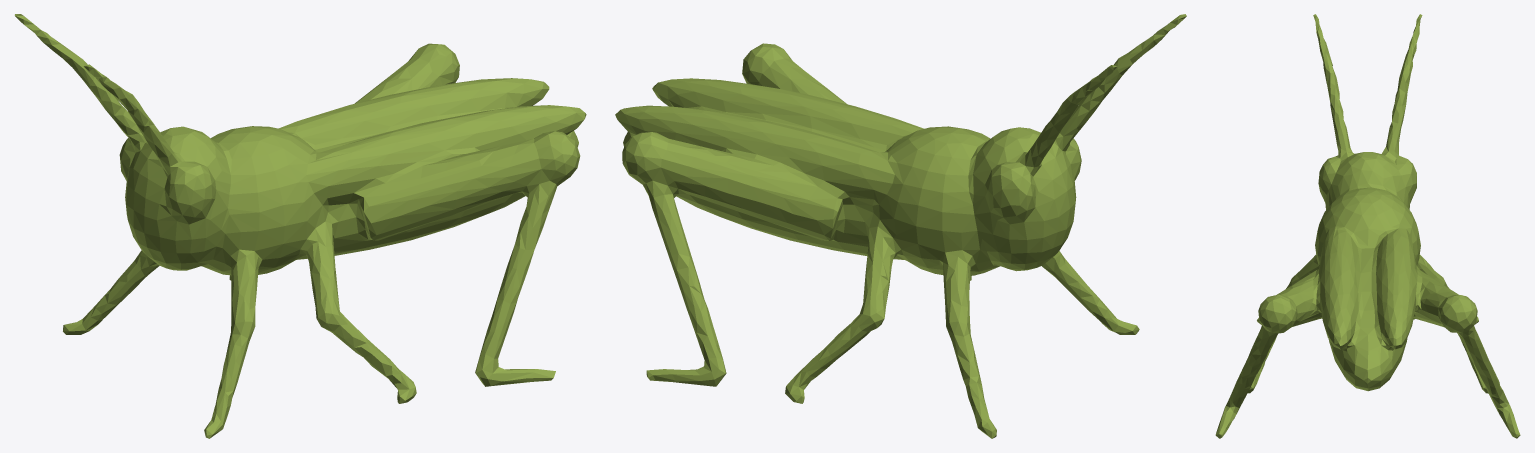
File: NEW_RECOVERY_031_LOD0.glb
The picture shows the model from 3 angles, left to right: view 1: azimuth 30°, elevation 25°; view 2: azimuth 150°, elevation 25°; view 3: azimuth 270°, elevation 25°; orthographic projection. The views are drawn at different scales.
Visible parts, largest first — view 1: Grasshopper_closed_sculpture; view 2: Grasshopper_closed_sculpture; view 3: Grasshopper_closed_sculpture.
Part boxes in pixels (x1,y1,x2,y2): Grasshopper_closed_sculpture: [14, 14, 586, 438]; Grasshopper_closed_sculpture: [615, 14, 1186, 438]; Grasshopper_closed_sculpture: [1215, 14, 1520, 438].
Bounding box in the file's own units: 3.46 × 2.29 × 2.29.
